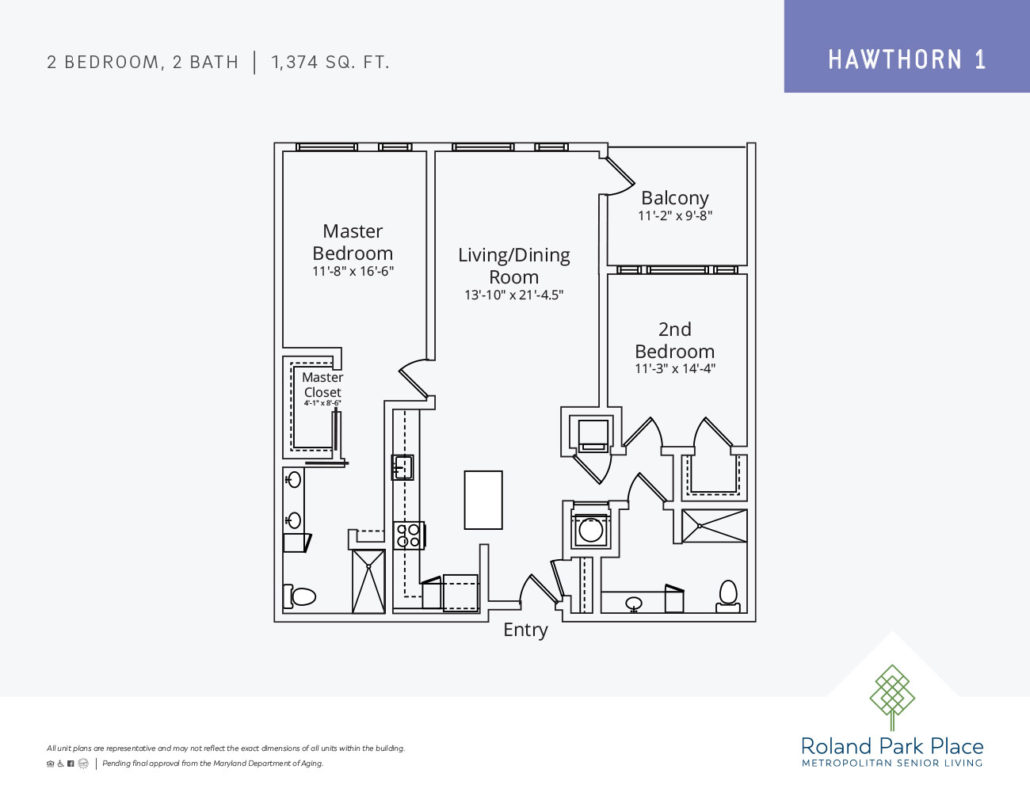balcony: (597, 143, 755, 268)
door: (620, 411, 677, 440), (622, 465, 661, 501), (511, 571, 555, 602), (609, 160, 636, 203), (392, 354, 422, 391), (686, 415, 726, 442)
room: (383, 141, 608, 409), (391, 403, 611, 624), (273, 141, 432, 361), (609, 261, 759, 455), (608, 455, 755, 623), (275, 458, 394, 624), (273, 346, 345, 468)
window: (454, 142, 515, 152), (295, 143, 355, 152), (648, 266, 709, 273), (536, 143, 570, 152), (380, 143, 408, 153)
